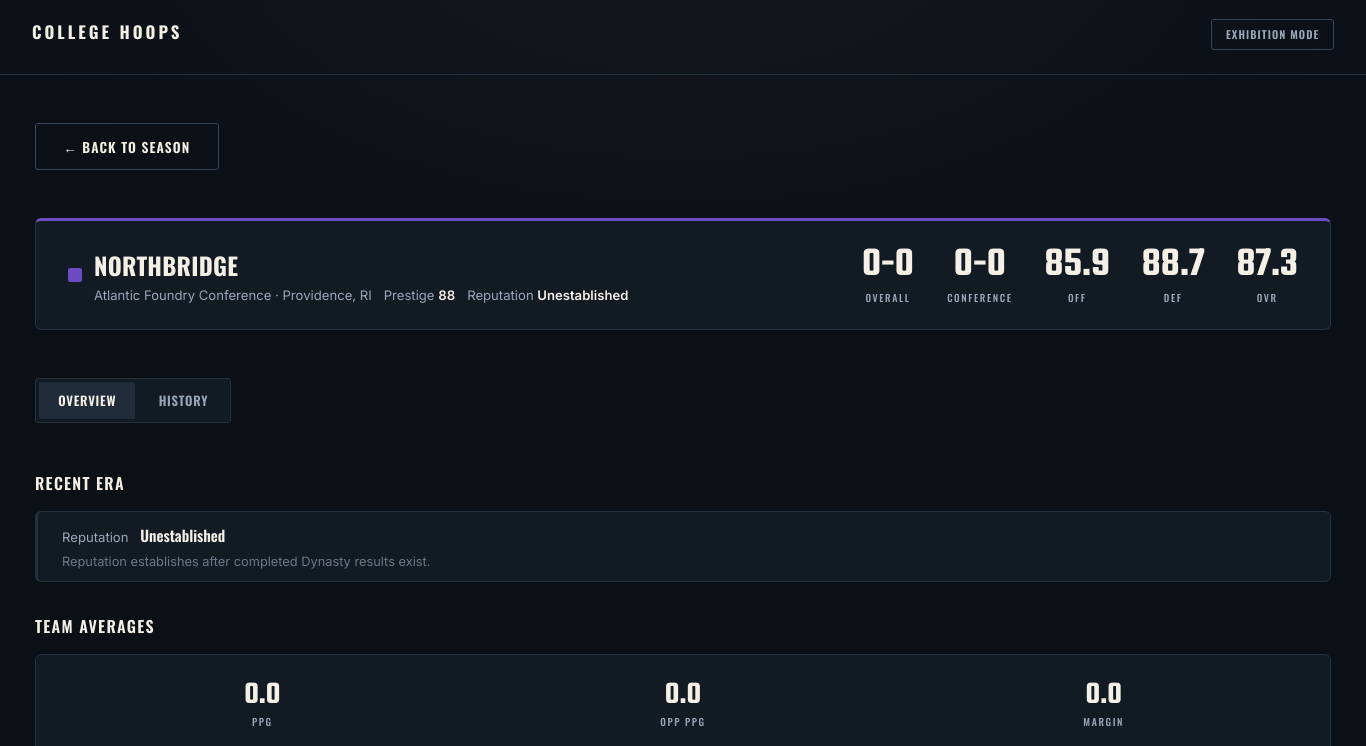
Test: Team Details › shows the full current roster and a zero-game-safe Team Leaders state before any games
The image size is (1366, 746).
Check: the heading "Dynasty History" is not shown
What coordinates should you click on to do the following:
click the button "History"
I would click on:
 (183, 400)
Its box is [139, 382, 227, 419].
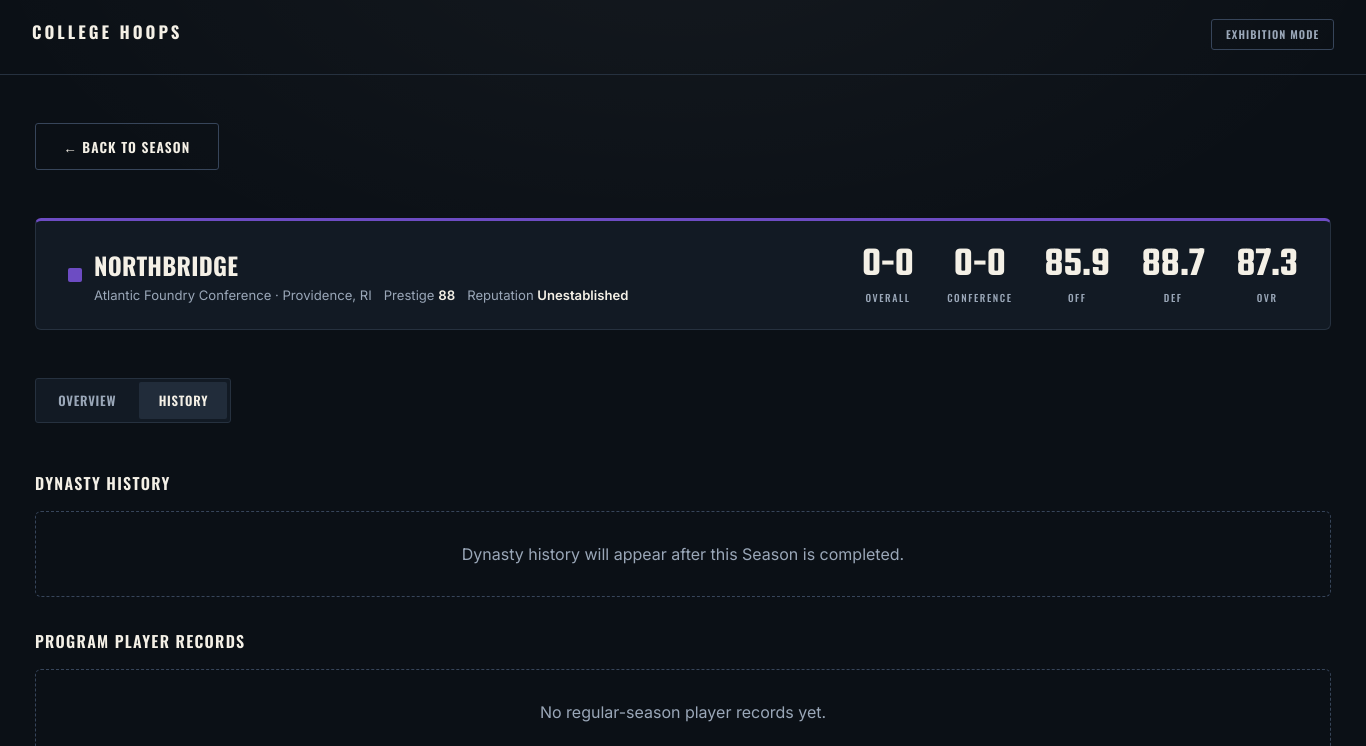
Check: the heading "Dynasty History" is shown, box [35, 471, 170, 495]
Check: the text "Dynasty history will appear after this Season is completed." is shown, box [35, 511, 1331, 597]
Check: the heading "Program Player Records" is shown, box [35, 629, 246, 653]
What coordinates should you click on to do the following:
click the button "Overview"
I would click on:
 (87, 400)
Its box is [39, 382, 135, 419].
(page scrolled)
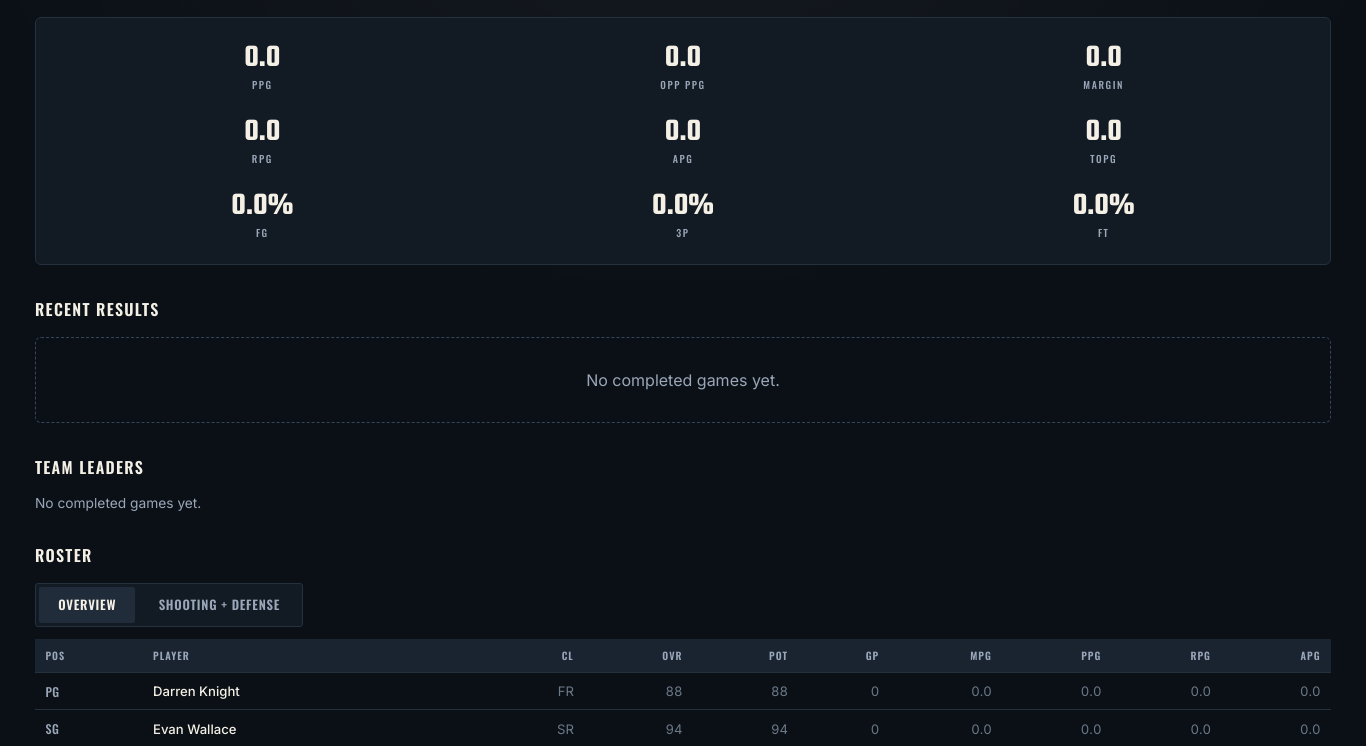
Check: the heading "Roster" is shown, box [35, 543, 92, 567]
Check: the text "0.0" is shown 6 times, box [244, 42, 280, 74]; [665, 42, 701, 74]; [1086, 42, 1122, 74]; [244, 116, 280, 148]; [665, 116, 701, 148]; [1086, 116, 1122, 148]
Check: the text "0.0%" is shown 3 times, box [231, 190, 293, 222]; [652, 190, 714, 222]; [1073, 190, 1135, 222]
